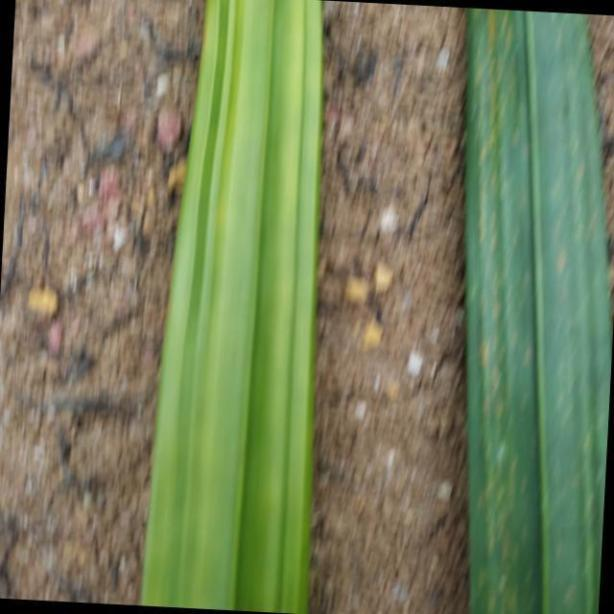nitrogen: (136, 0, 323, 614)
